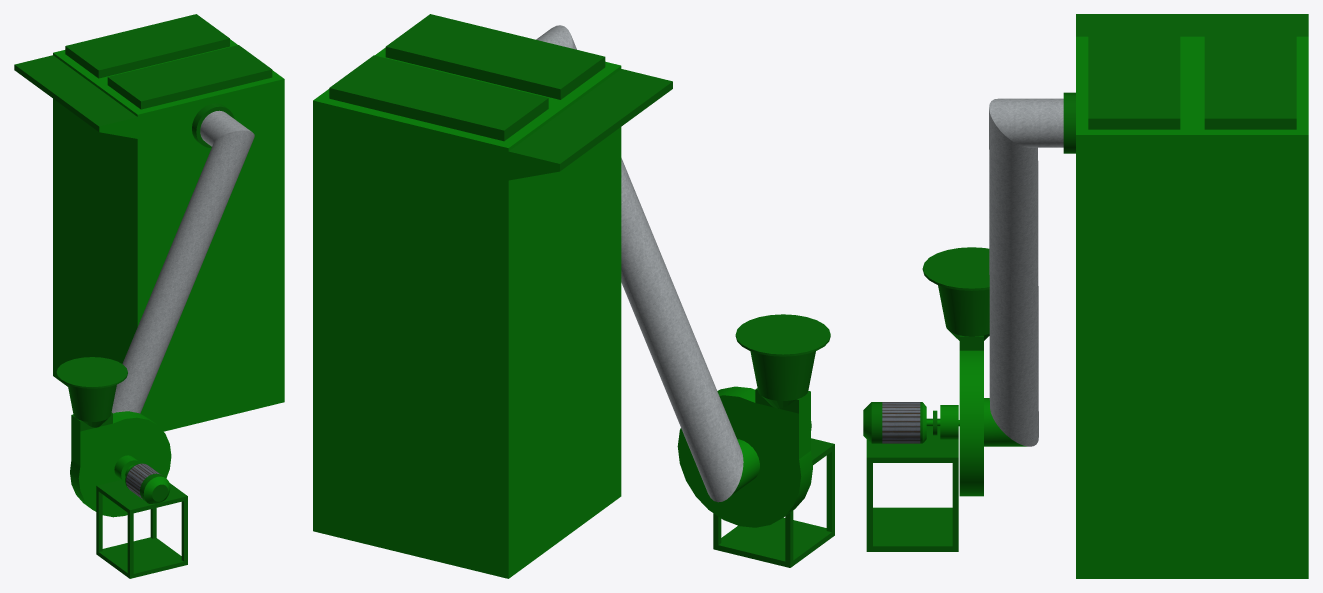
Rendered from 干磨机除尘器.glb.
3 views of the same model, side by side, from view 1: azimuth 30°, elevation 25°; view 2: azimuth 150°, elevation 25°; view 3: azimuth 270°, elevation 25° (orthographic). The views are drawn at different scales.
Parts seen in each view (by area): view 1: root; view 2: root; view 3: root.
Boxes of the visible parts, bbox=[...] form: root: bbox=[14, 14, 284, 578]; root: bbox=[313, 14, 834, 578]; root: bbox=[863, 14, 1308, 578].
Bounding box in the file's own units: 3.38 × 4.9 × 3.64.
Materials: 4 (2 with a texture image).
